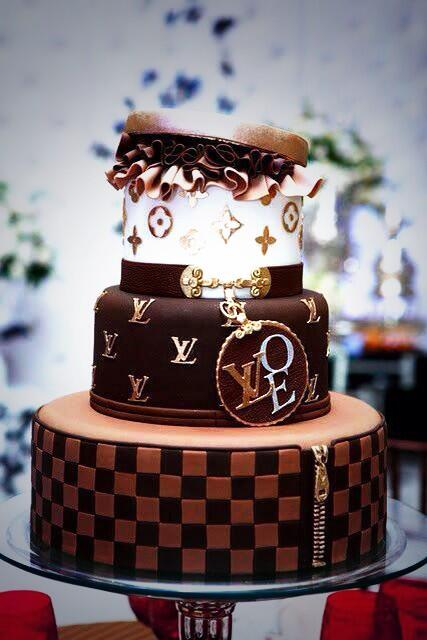LOUIS-VUITTON: (160, 328, 210, 373)
